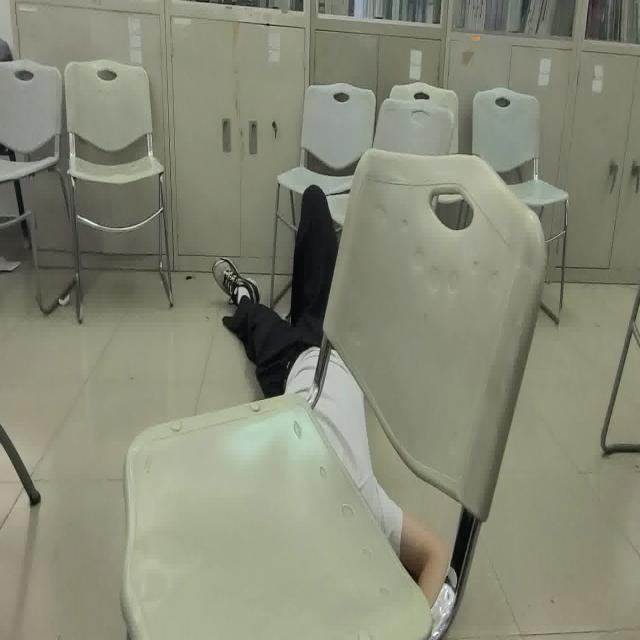fall: (209, 182, 453, 604)
